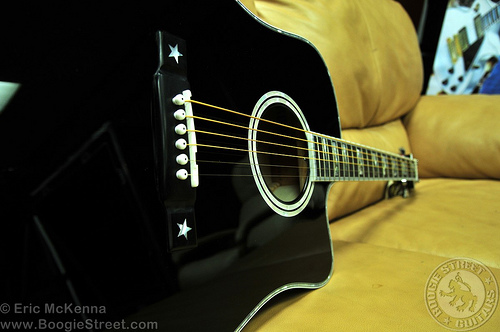guitar: (1, 1, 421, 332)
